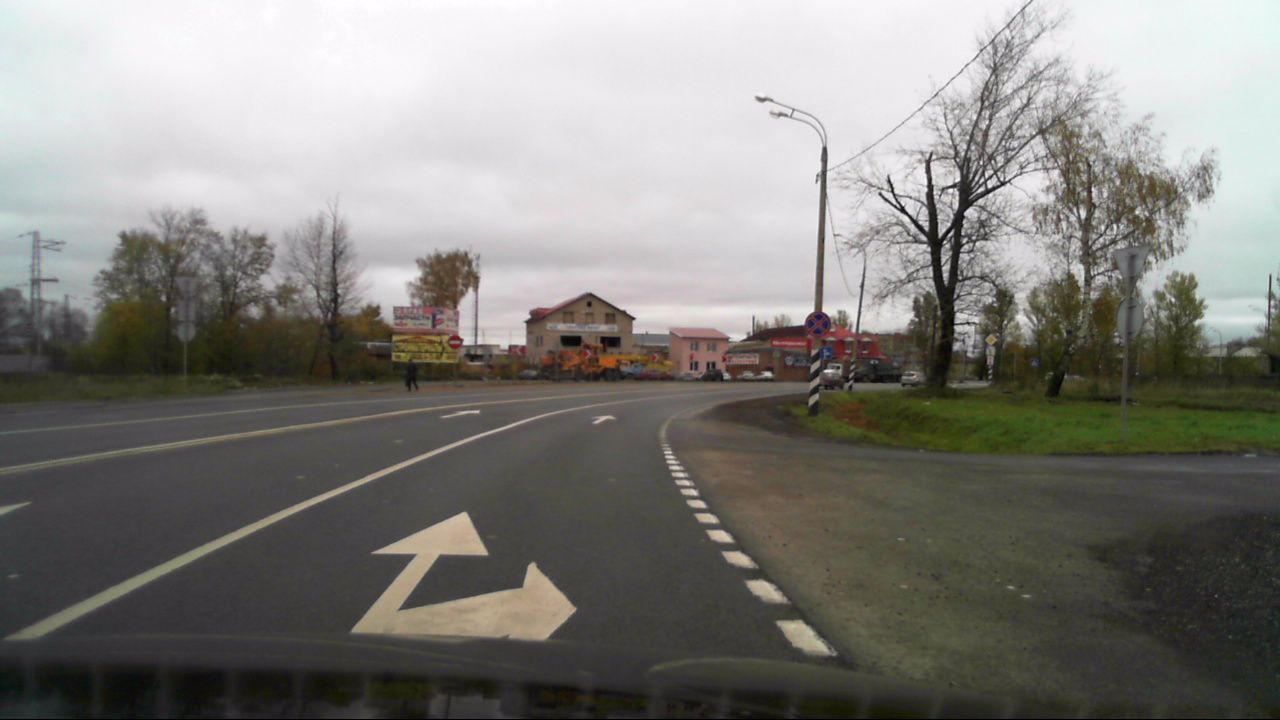No Parking: (805, 311, 830, 337)
